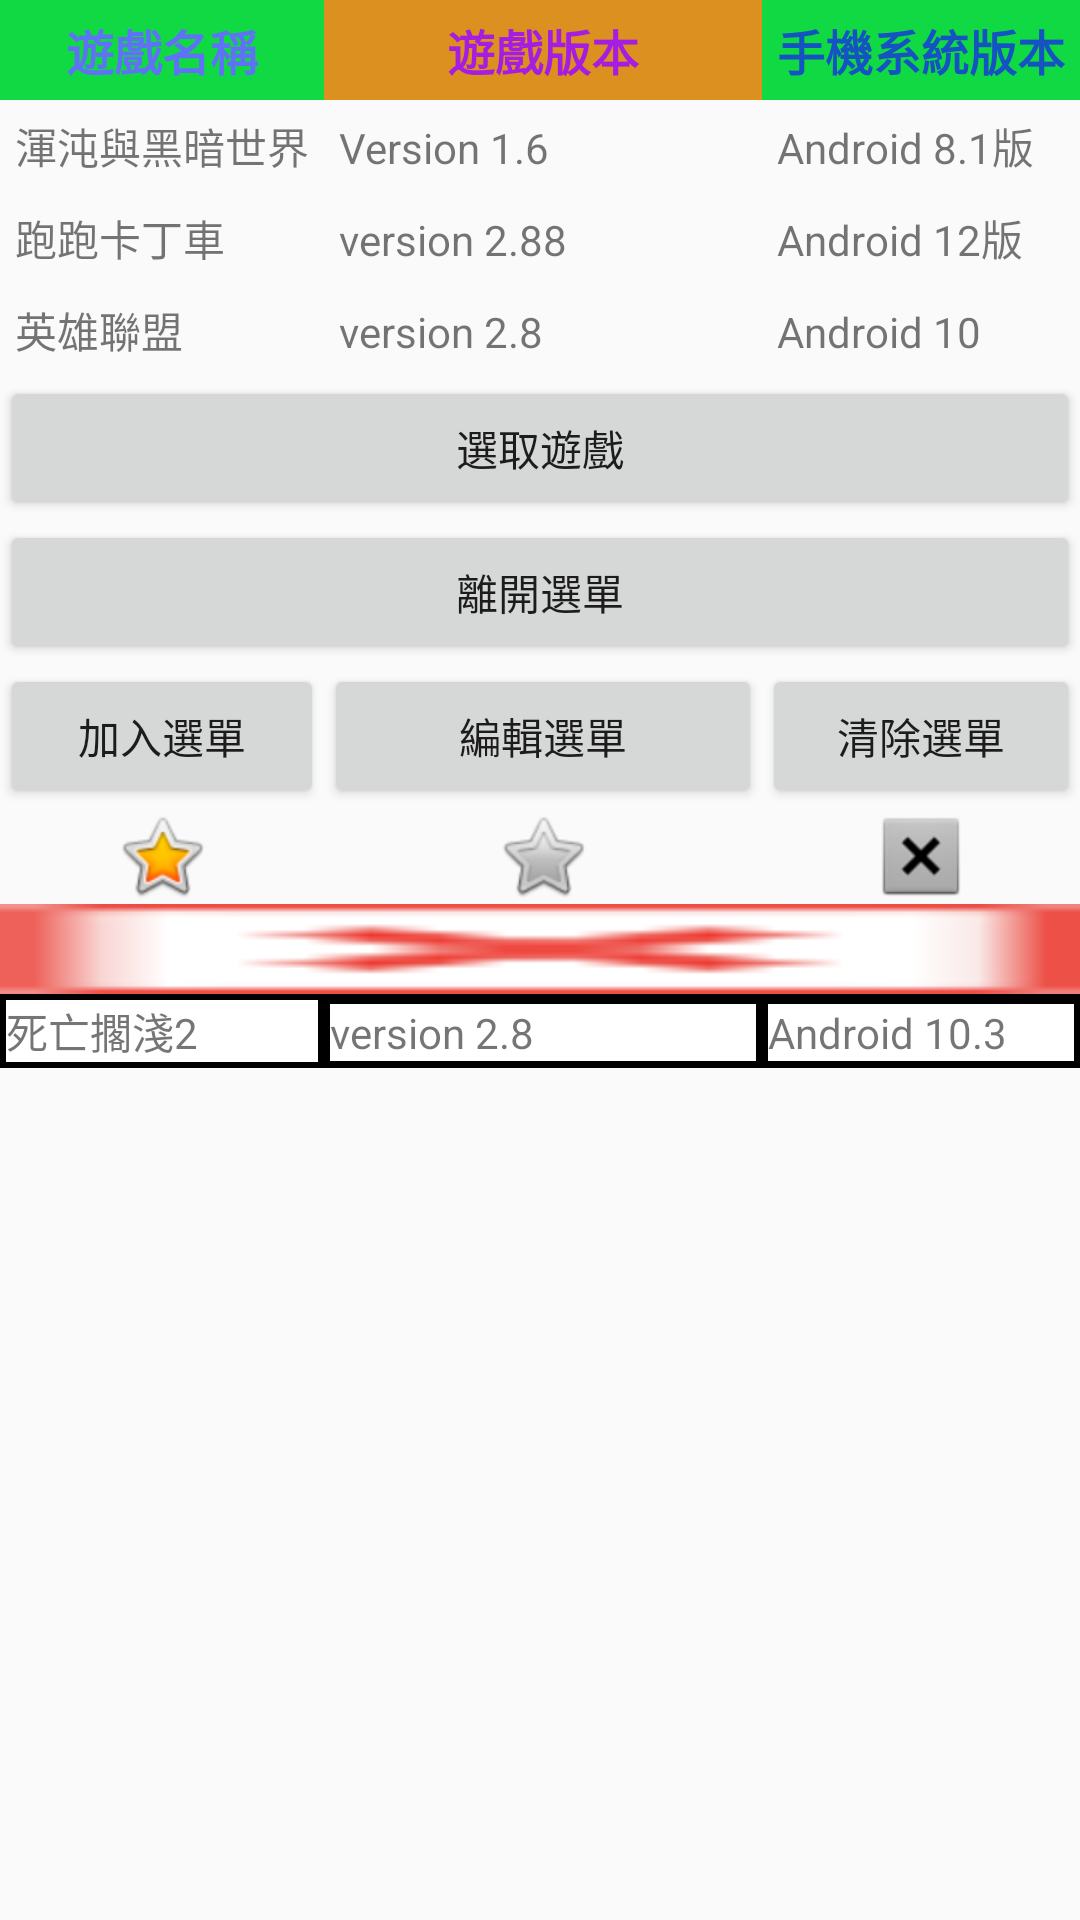

Where to tap for icons on this 1080 × 1920 app screen, as point (x, y):
star off: point (544, 857)
star on: point (163, 857)
